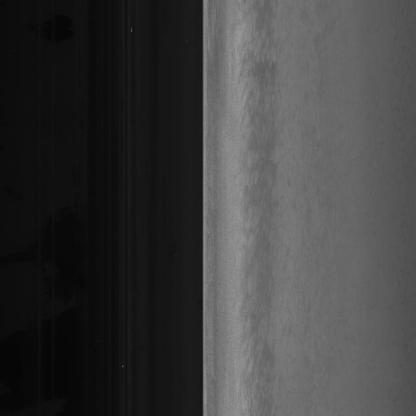silk_spot: (229, 159, 276, 287)
